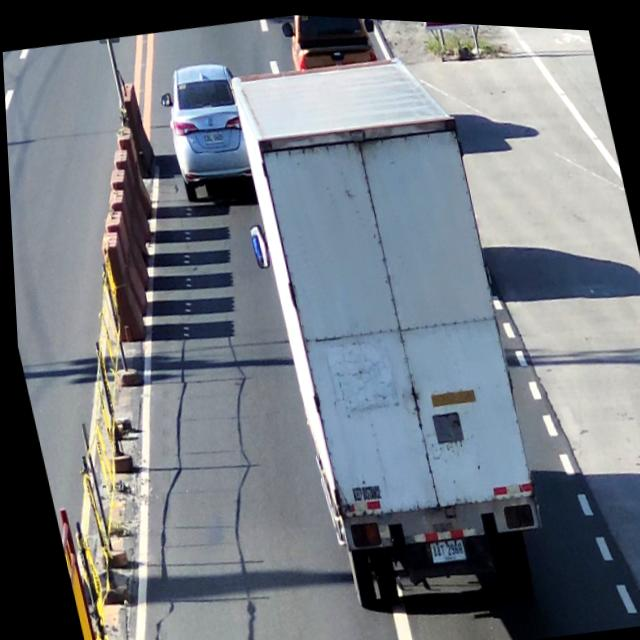Car: (156, 57, 258, 188), (282, 11, 378, 72)
License-Plate: (418, 528, 463, 565), (198, 120, 223, 143)
Truck: (229, 41, 544, 596)
